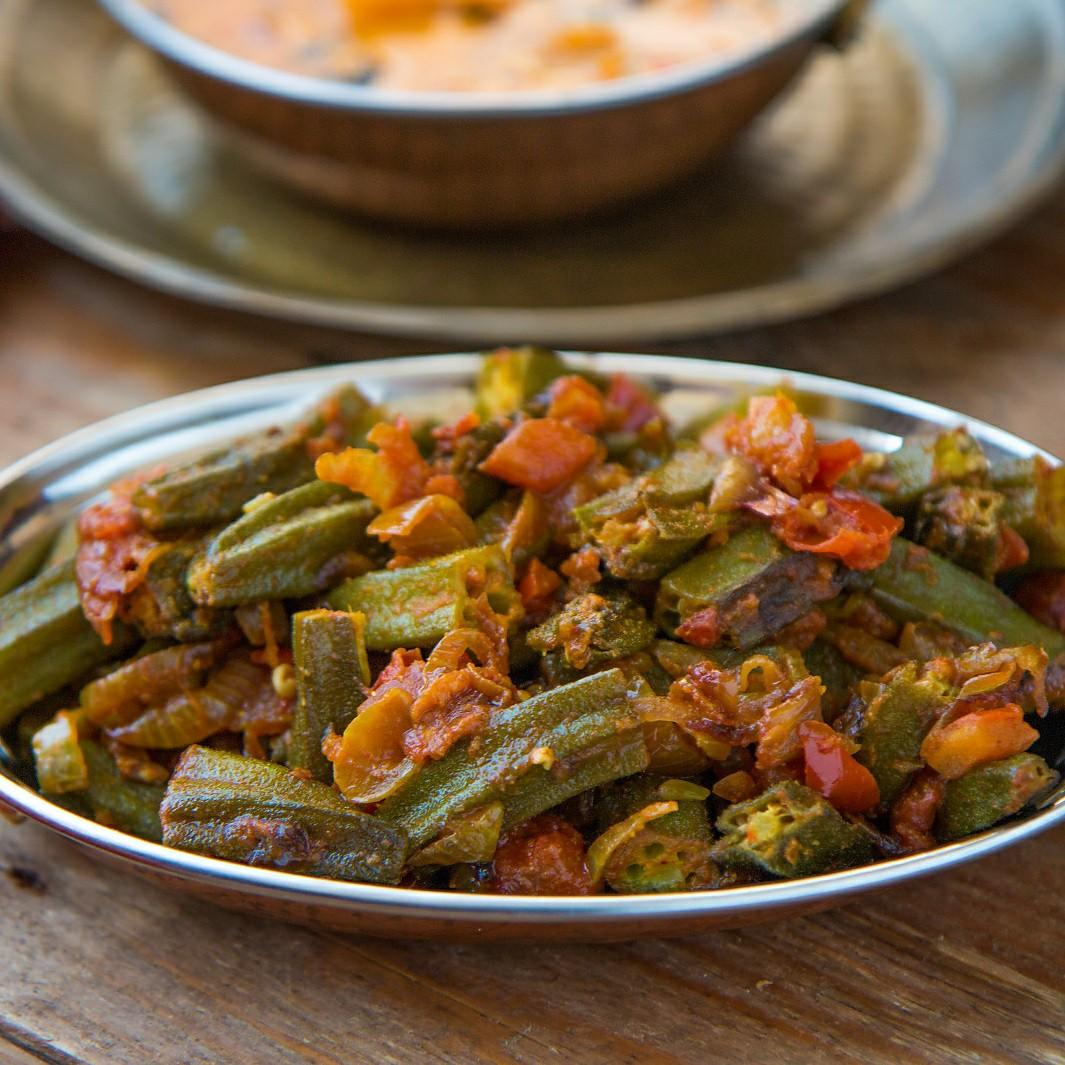BhindiMasala: (1, 348, 1065, 898)
